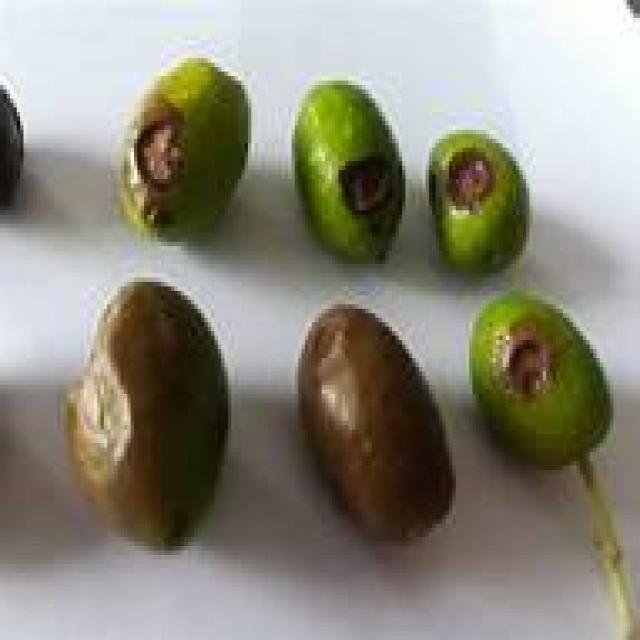Anthracnose: (120, 54, 252, 248), (468, 290, 612, 466), (292, 80, 402, 256), (429, 130, 526, 273)
